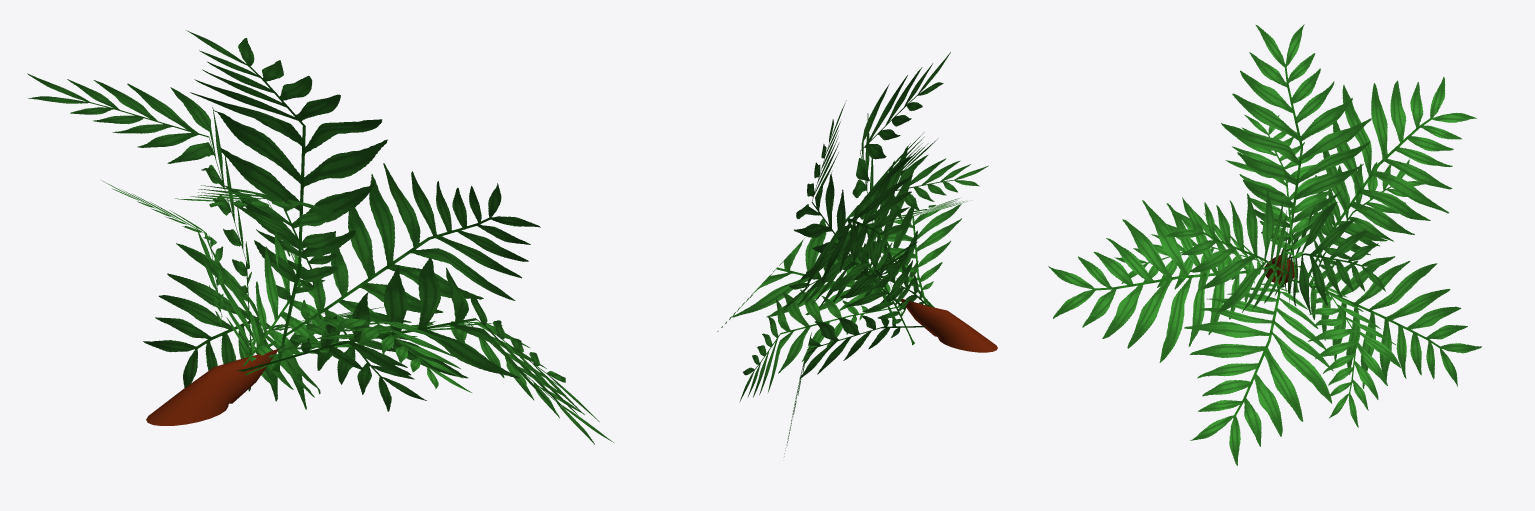
File: Parlor Palm.fbx
3 renders of one model, left to right at view 1: azimuth 30°, elevation 25°; view 2: azimuth 150°, elevation 25°; view 3: azimuth 270°, elevation 25°, orthographic. The views are drawn at different scales.
Parts seen in each view (by area): view 1: Parlor_Palm2; view 2: Parlor_Palm2; view 3: Parlor_Palm2.
Part boxes in pixels (x1,y1,x2,y2): Parlor_Palm2: [27, 30, 613, 444]; Parlor_Palm2: [717, 52, 997, 456]; Parlor_Palm2: [1048, 24, 1481, 465].
Bounding box in the file's own units: 132 × 151 × 174.
